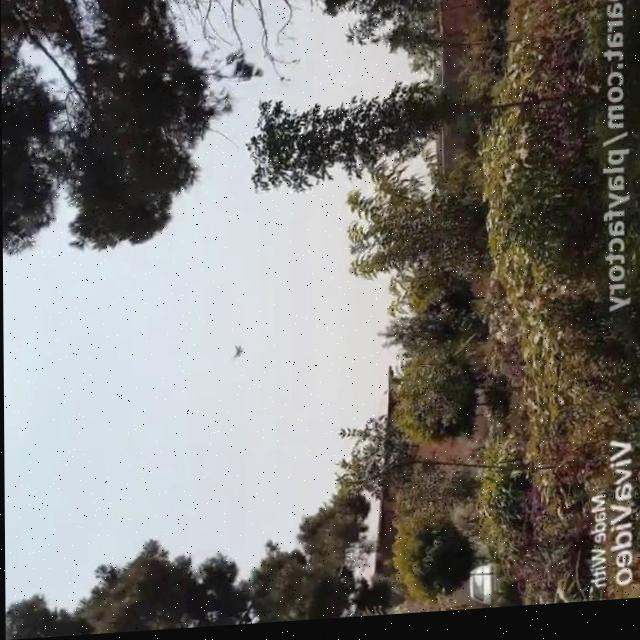drone: (224, 345, 246, 371)
